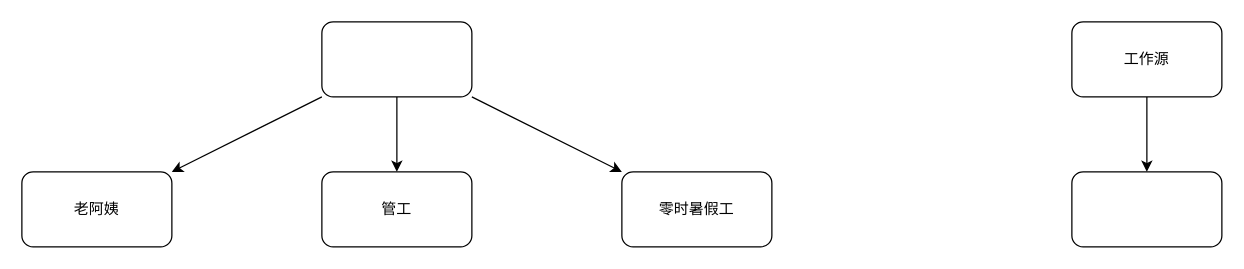
The diagram is 1244 pixels wide and 269 high, and some of its shapes have lost their labels. Here are the shapes that lost their labels. From the top down, the box of each, then its label:
(321, 21, 472, 97): 雇佣人手
(1071, 171, 1222, 247): 制造工厂
